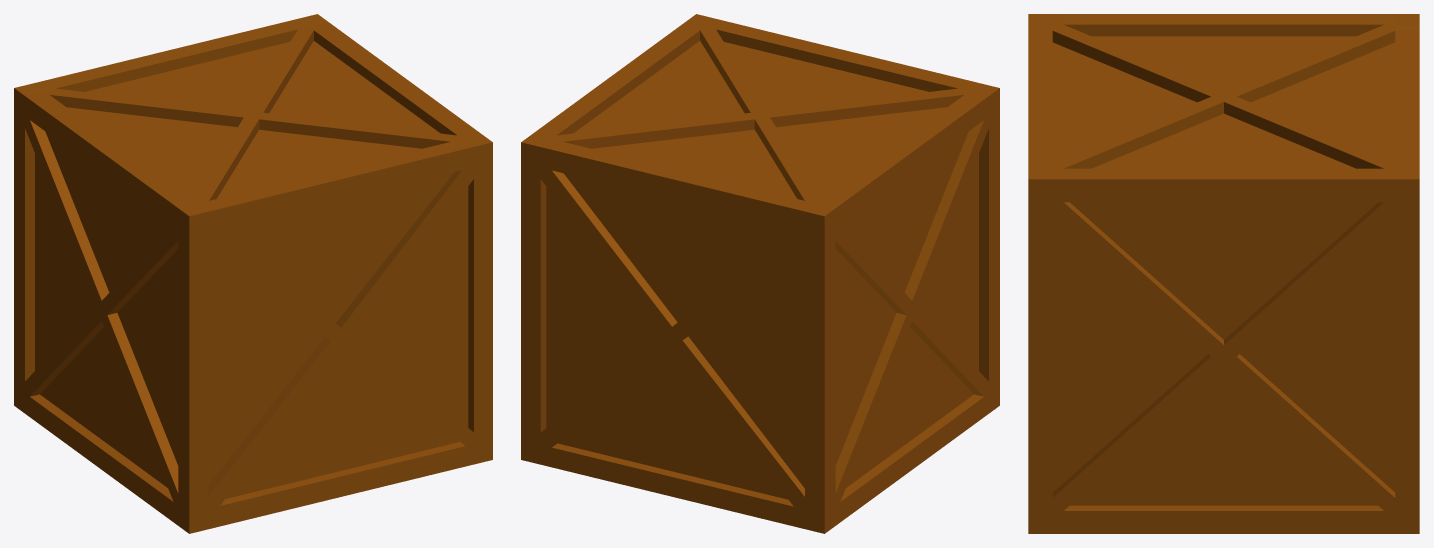
Rendered from wood box.fbx.
The picture shows the model from 3 angles, left to right: view 1: azimuth 30°, elevation 25°; view 2: azimuth 150°, elevation 25°; view 3: azimuth 270°, elevation 25°; orthographic projection. The views are drawn at different scales.
Visible parts, largest first — view 1: Cube.004; view 2: Cube.004; view 3: Cube.004.
Part boxes in pixels (x1,y1,x2,y2): Cube.004: (14,14,492,533); Cube.004: (521,14,999,533); Cube.004: (1028,14,1419,533).
Bounding box in the file's own units: 972 × 972 × 972.
